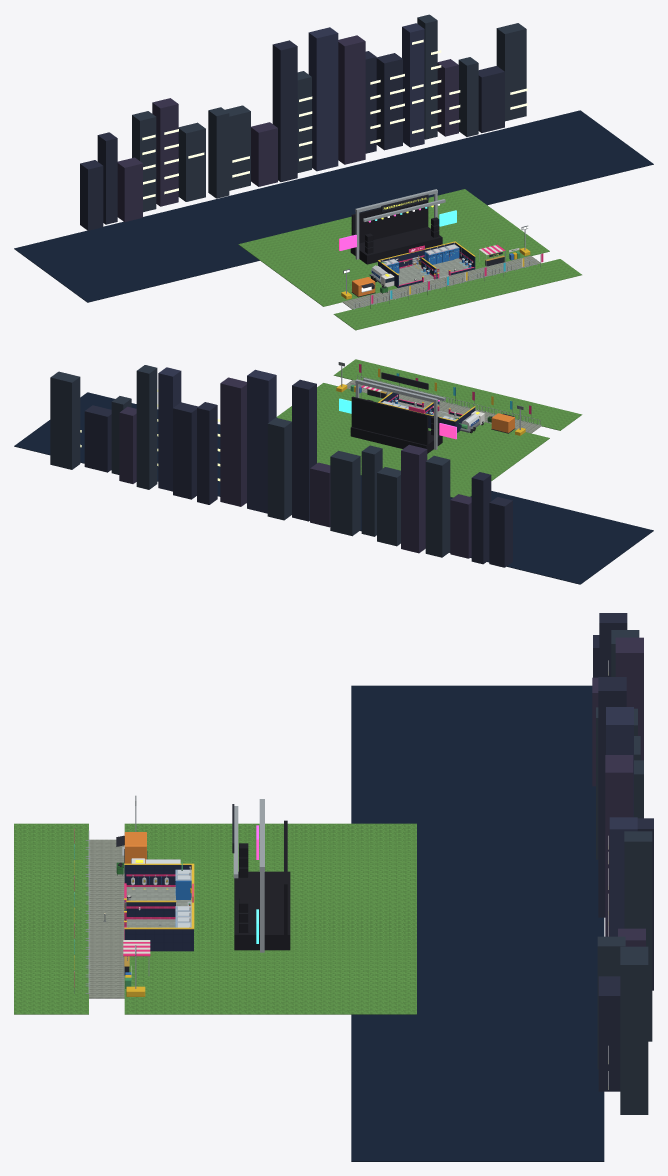
The model's file is level_festival.glb.
3 views of the same model, one above another, from view 1: azimuth 30°, elevation 25°; view 2: azimuth 150°, elevation 25°; view 3: azimuth 270°, elevation 25° (orthographic). The views are drawn at different scales.
Visible parts, largest first — view 1: field, street, walls, neighbours, floor; view 2: field, street, neighbours, walls, honey_wagon; view 3: field, street, walls, neighbours, floor.
Part boxes in pixels (x1,y1,x2,y2): field: (14,14,653,330); street: (342,256,540,309); walls: (378,241,475,287); neighbours: (341,225,530,299); floor: (397,257,471,284); field: (14,359,653,584); street: (346,375,541,433); neighbours: (336,362,525,435); walls: (378,392,475,432); honey_wagon: (460,411,484,433); field: (14,613,653,1161); street: (85,831,124,998); walls: (124,863,194,951); neighbours: (116,795,150,996); floor: (126,887,191,927).
Size of the model in its own units: 120 by 27.57 by 68.3.
89 materials, 5 textured.
